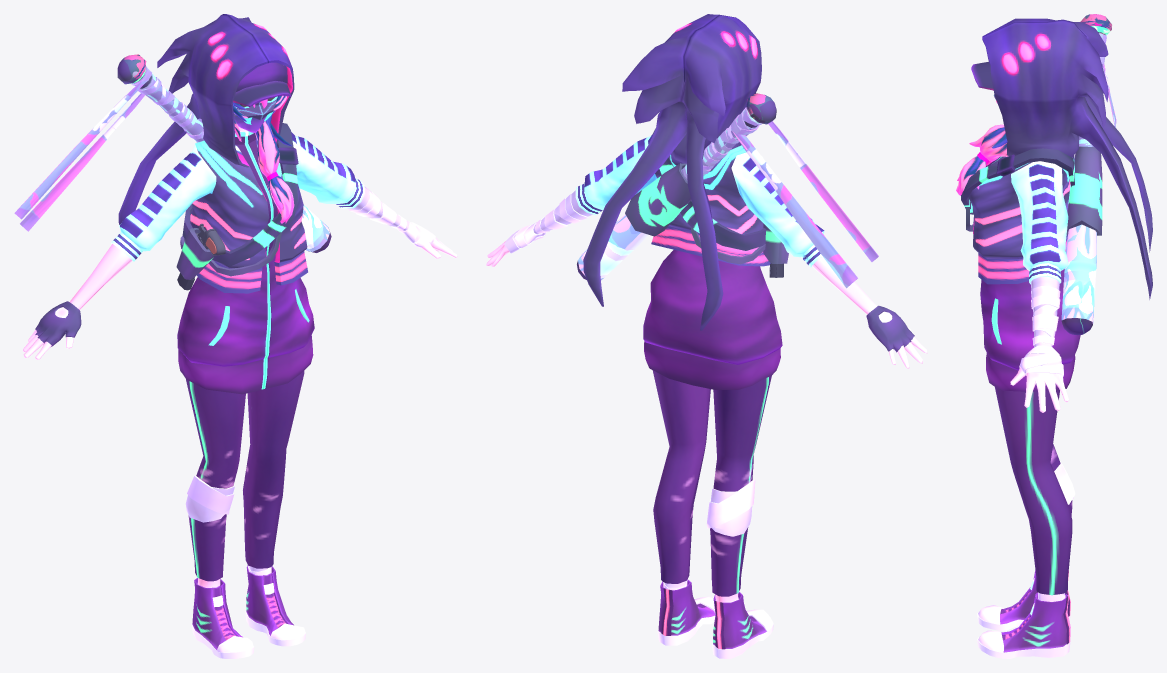
File: weaver2-unrigged.fbx
The picture shows the model from 3 angles, left to right: view 1: azimuth 30°, elevation 25°; view 2: azimuth 150°, elevation 25°; view 3: azimuth 270°, elevation 25°; orthographic projection.
Visible parts, largest first — view 1: holster_bat; view 2: holster_bat; view 3: holster_bat.
Part boxes in pixels (x1=…): holster_bat: x1=14, y1=14, x2=457, y2=658; holster_bat: x1=486, y1=14, x2=927, y2=658; holster_bat: x1=956, y1=14, x2=1152, y2=658.
Size of the model in its own units: 129 by 175 by 50.59.
Materials: 4 (4 with a texture image).
